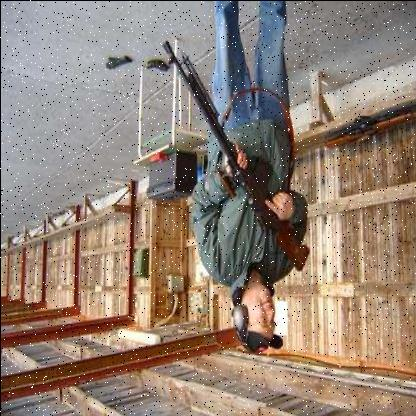rifle: (135, 21, 311, 281)
